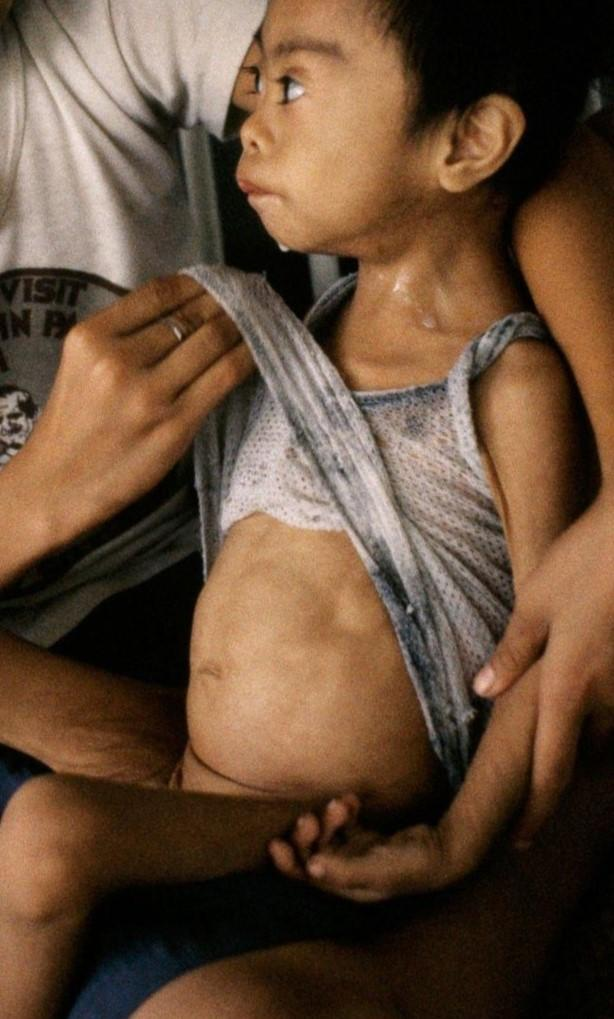Stunting: (150, 0, 614, 342)
